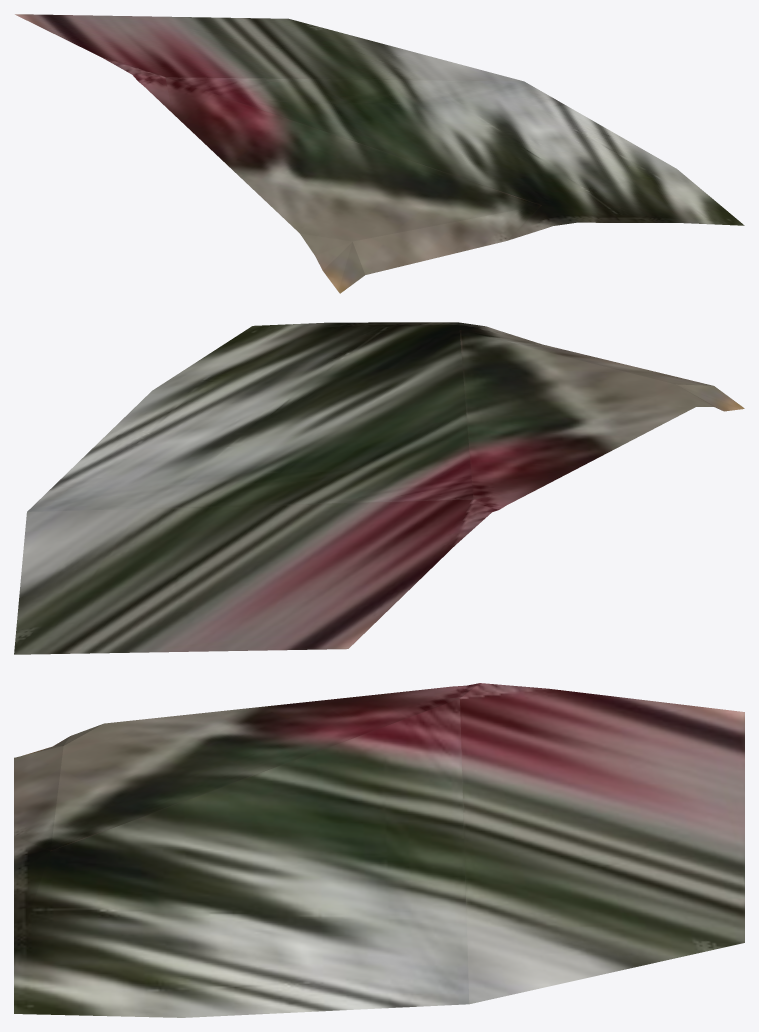
3 renders of one model, top to bottom at view 1: azimuth 30°, elevation 25°; view 2: azimuth 150°, elevation 25°; view 3: azimuth 270°, elevation 25°, orthographic. The views are drawn at different scales.
Size of the model in its own units: 1.22 by 0.2767 by 1.67.
2 materials, 2 textured.
